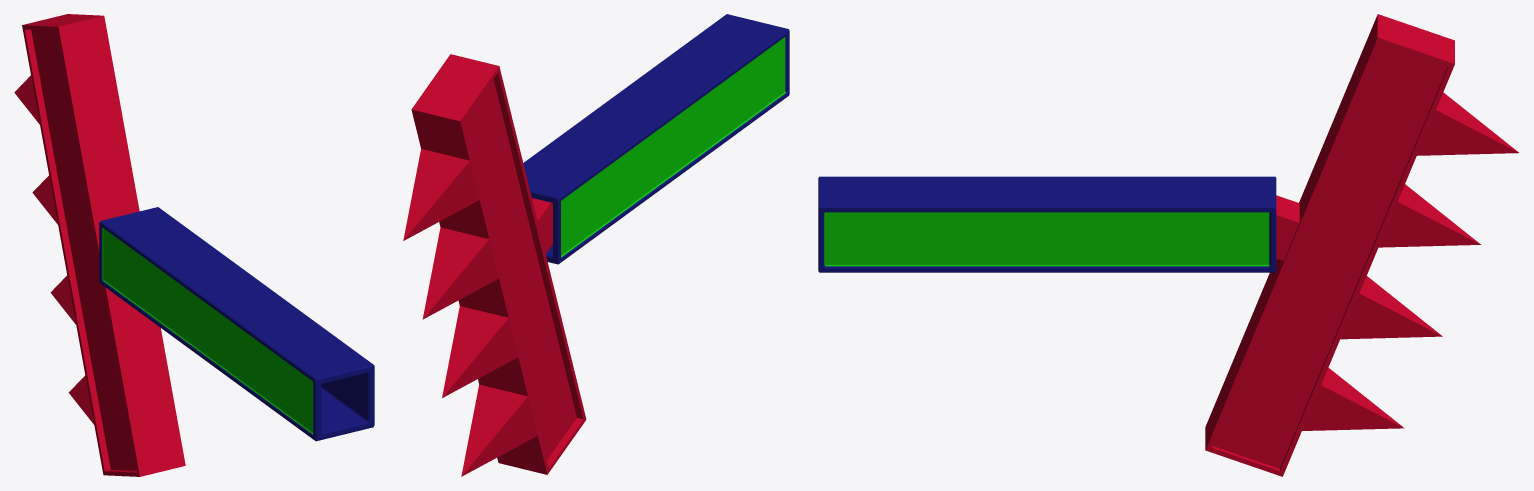
The model's file is Spark(solo).fbx.
3 renders of one model, left to right at view 1: azimuth 30°, elevation 25°; view 2: azimuth 150°, elevation 25°; view 3: azimuth 270°, elevation 25°, orthographic. The views are drawn at different scales.
Parts seen in each view (by area): view 1: Spike Head, Spike Body 2; view 2: Spike Head, Spike Body 2; view 3: Spike Head, Spike Body 2.
Part boxes in pixels (x1=…): Spike Head: x1=14, y1=14, x2=185, y2=476; Spike Body 2: x1=99, y1=207, x2=374, y2=441; Spike Head: x1=403, y1=54, x2=586, y2=476; Spike Body 2: x1=523, y1=14, x2=789, y2=264; Spike Head: x1=1205, y1=14, x2=1518, y2=476; Spike Body 2: x1=818, y1=176, x2=1276, y2=272.
Size of the model in its own units: 47.99 by 320 by 463.
